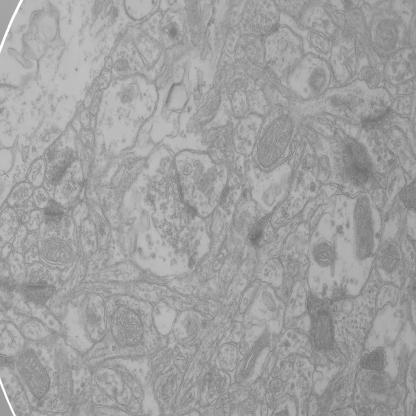mitochondria: (256, 110, 294, 169), (14, 346, 53, 402), (110, 302, 145, 352), (236, 330, 270, 380), (342, 137, 374, 188), (352, 189, 373, 263), (51, 348, 74, 404), (38, 236, 74, 270), (373, 16, 402, 52), (313, 308, 334, 350), (358, 346, 387, 375), (312, 237, 337, 270), (379, 241, 400, 277), (306, 63, 328, 95), (357, 62, 382, 90), (112, 56, 132, 76), (116, 85, 134, 107)
